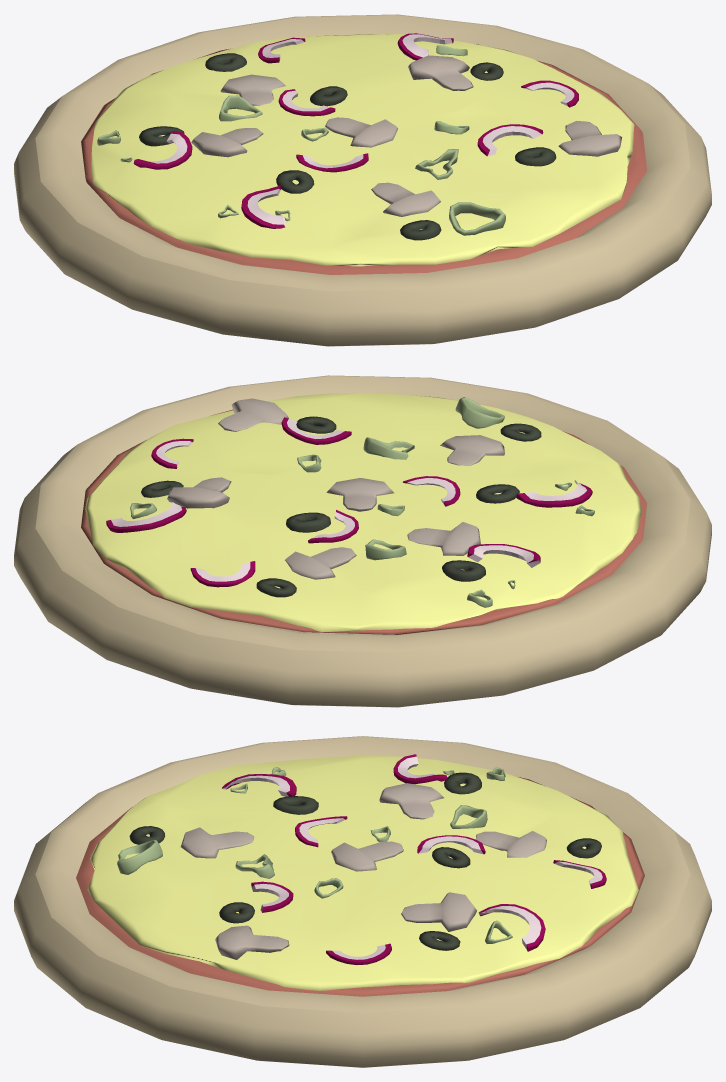
File: thick_mushroom_onion.gltf
3 renders of one model, top to bottom at view 1: azimuth 30°, elevation 25°; view 2: azimuth 150°, elevation 25°; view 3: azimuth 270°, elevation 25°, orthographic.
Parts seen in each view (by area): view 1: thick, cheese, polySurface128, polySurface162, polySurface129, polySurface163, polySurface130, polySurface161, polySurface174, polySurface210, polySurface209, polySurface214 (+13 smaller); view 2: thick, cheese, polySurface130, polySurface162, polySurface161, polySurface128, polySurface163, polySurface129, polySurface215, polySurface210, polySurface174, polySurface214 (+13 smaller); view 3: thick, cheese, polySurface128, polySurface162, polySurface130, polySurface163, polySurface129, polySurface161, polySurface215, polySurface174, polySurface214, polySurface210 (+12 smaller).
Boxes of the visible parts, left/top/right/bottom form: thick: left=14, top=14, right=711, bottom=346; cheese: left=91, top=34, right=634, bottom=266; polySurface128: left=408, top=55, right=473, bottom=90; polySurface162: left=558, top=121, right=621, bottom=156; polySurface129: left=371, top=182, right=440, bottom=216; polySurface163: left=325, top=117, right=397, bottom=147; polySurface130: left=191, top=128, right=263, bottom=157; polySurface161: left=220, top=74, right=285, bottom=105; polySurface174: left=449, top=202, right=505, bottom=235; polySurface210: left=241, top=185, right=285, bottom=228; polySurface209: left=477, top=124, right=543, bottom=156; polySurface214: left=133, top=131, right=192, bottom=169; thick: left=14, top=375, right=711, bottom=707; cheese: left=85, top=393, right=641, bottom=631; polySurface130: left=407, top=522, right=480, bottom=555; polySurface162: left=218, top=398, right=288, bottom=431; polySurface161: left=285, top=547, right=356, bottom=579; polySurface128: left=167, top=477, right=231, bottom=508; polySurface163: left=326, top=478, right=393, bottom=511; polySurface129: left=440, top=435, right=504, bottom=465; polySurface215: left=106, top=502, right=186, bottom=532; polySurface210: left=516, top=480, right=592, bottom=507; polySurface174: left=455, top=397, right=504, bottom=428; polySurface214: left=467, top=544, right=540, bottom=567; thick: left=14, top=736, right=711, bottom=1067; cheese: left=87, top=755, right=638, bottom=990; polySurface128: left=401, top=892, right=476, bottom=931; polySurface162: left=215, top=925, right=289, bottom=959; polySurface130: left=379, top=783, right=443, bottom=819; polySurface163: left=331, top=841, right=403, bottom=871; polySurface129: left=180, top=827, right=253, bottom=858; polySurface161: left=476, top=831, right=546, bottom=857; polySurface215: left=478, top=904, right=545, bottom=951; polySurface174: left=117, top=840, right=162, bottom=874; polySurface214: left=393, top=754, right=446, bottom=784; polySurface210: left=221, top=774, right=296, bottom=796.
Size of the model in its own units: 0.1035 by 0.0138 by 0.1035.
